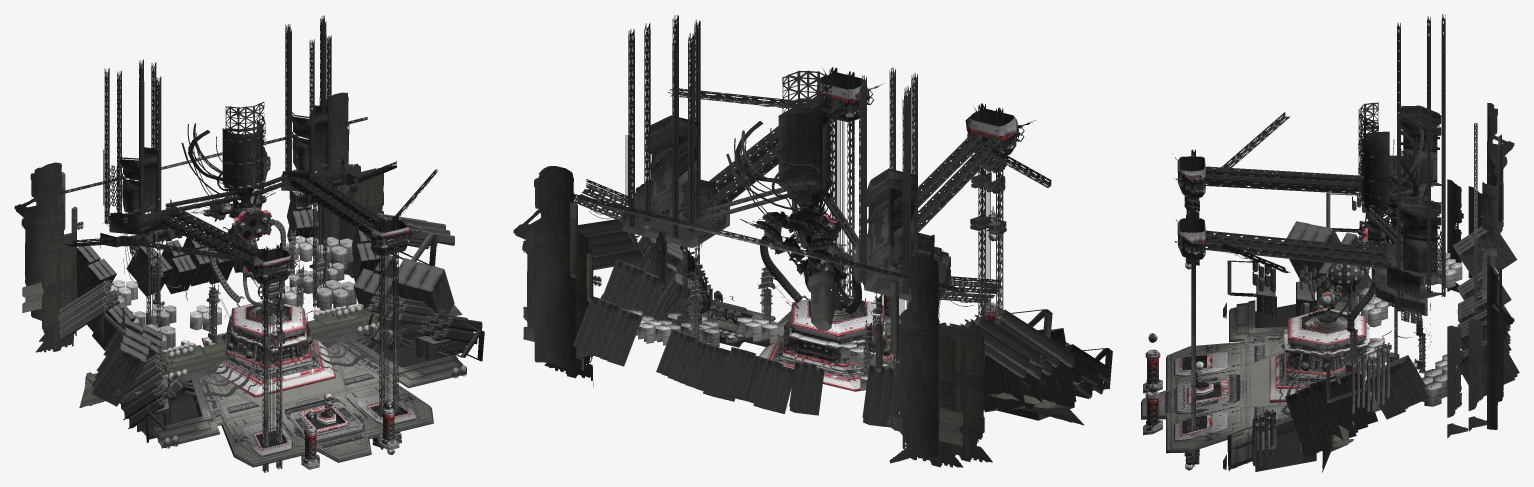
Rendered from ebg002_hsta.glb.
3 views of the same model, side by side, from view 1: azimuth 30°, elevation 25°; view 2: azimuth 150°, elevation 25°; view 3: azimuth 270°, elevation 25° (orthographic). The views are drawn at different scales.
Visible parts, largest first — view 1: ebg002_hsta; view 2: ebg002_hsta; view 3: ebg002_hsta.
Boxes of the visible parts, box(x1,y1,x2,y2) form: ebg002_hsta: box(14, 15, 484, 472); ebg002_hsta: box(513, 15, 1112, 467); ebg002_hsta: box(1141, 14, 1519, 472).
Bounding box in the file's own units: 53.38 × 44.16 × 41.06.
Materials: 22 (22 with a texture image).
